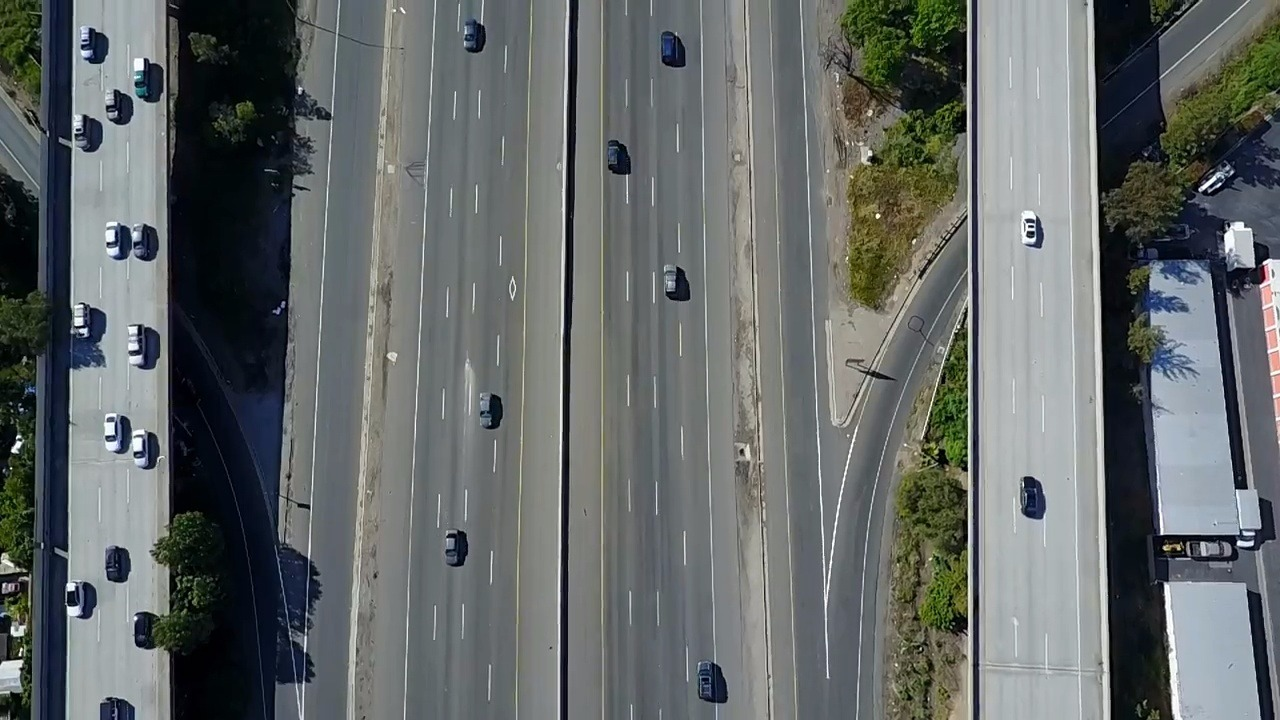v: (1219, 211, 1263, 280), (1233, 484, 1265, 554), (1181, 534, 1238, 567), (690, 656, 725, 707), (122, 321, 153, 373), (58, 579, 93, 624), (1017, 468, 1044, 520), (66, 110, 97, 155), (438, 525, 471, 567), (126, 610, 158, 652), (127, 56, 156, 102), (1017, 204, 1045, 251), (126, 427, 155, 472), (99, 544, 132, 583), (474, 389, 503, 433), (98, 410, 125, 457), (657, 258, 686, 301), (67, 301, 96, 344), (99, 217, 127, 261), (127, 221, 155, 262), (98, 85, 126, 126), (603, 134, 630, 176), (74, 24, 102, 64), (459, 17, 487, 56), (658, 26, 682, 70)
